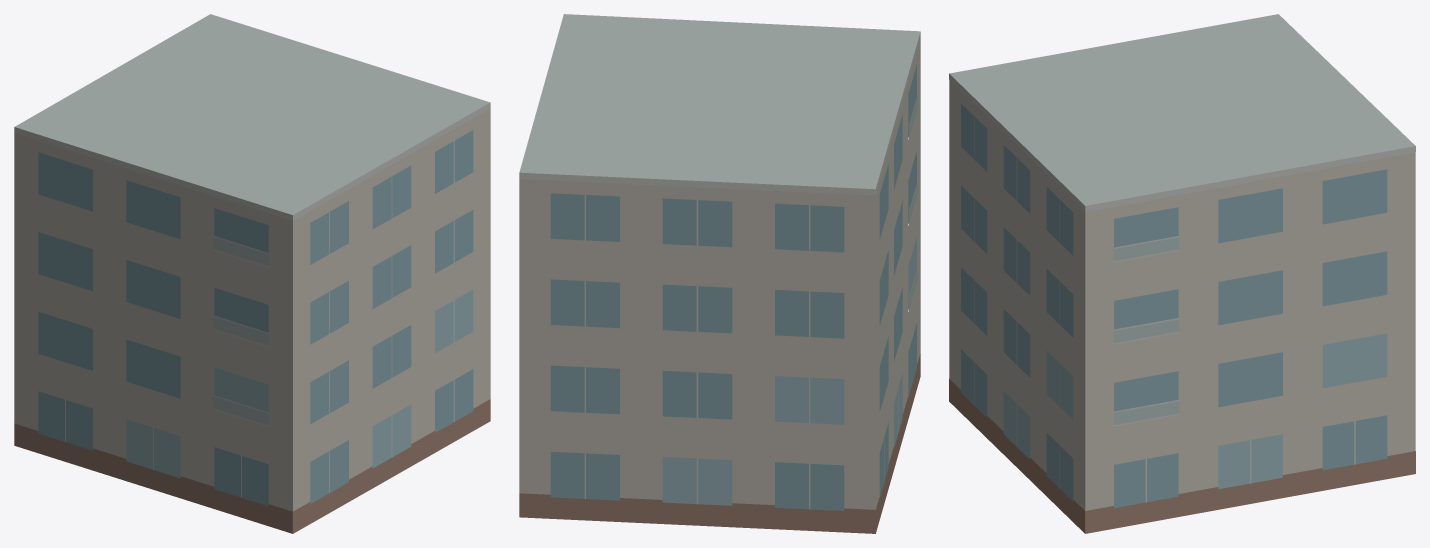
File: survey-upis-32661140.glb
3 renders of one model, left to right at view 1: azimuth 30°, elevation 25°; view 2: azimuth 150°, elevation 25°; view 3: azimuth 270°, elevation 25°, orthographic. The views are drawn at different scales.
Parts seen in each view (by area): view 1: survey-upis-32661140.tmp; view 2: survey-upis-32661140.tmp; view 3: survey-upis-32661140.tmp.
Boxes of the visible parts, x1,y1,x2,y2 form: survey-upis-32661140.tmp: (14, 14, 490, 533); survey-upis-32661140.tmp: (519, 14, 920, 533); survey-upis-32661140.tmp: (949, 14, 1415, 533).
Bounding box in the file's own units: 16.83 × 13.4 × 17.29.
